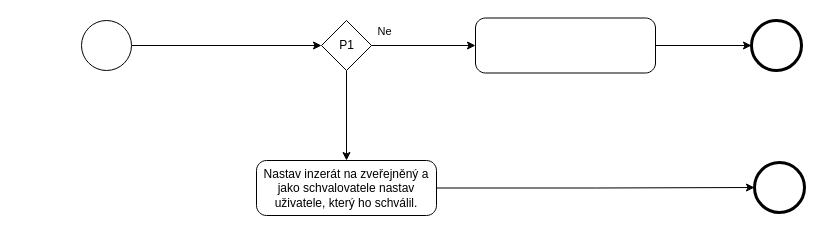
Some shapes in this 822 by 233 pixel diagram are drawn without their labels. Here are the shapes that lost their labels. From the top down, the centre of each, then its label:
[106,45]: Koordinátor chce zveřejnit inzerát
[565,45]: Nastav stav inzerátu na zamítnutý
